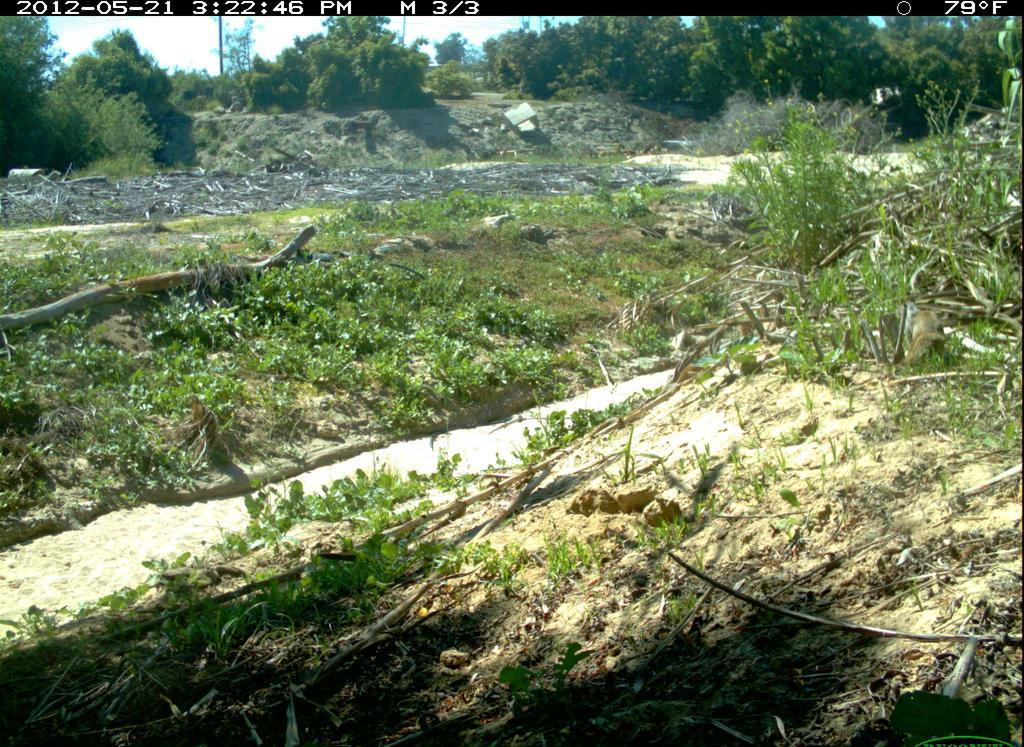squirrel: (863, 292, 966, 381)
